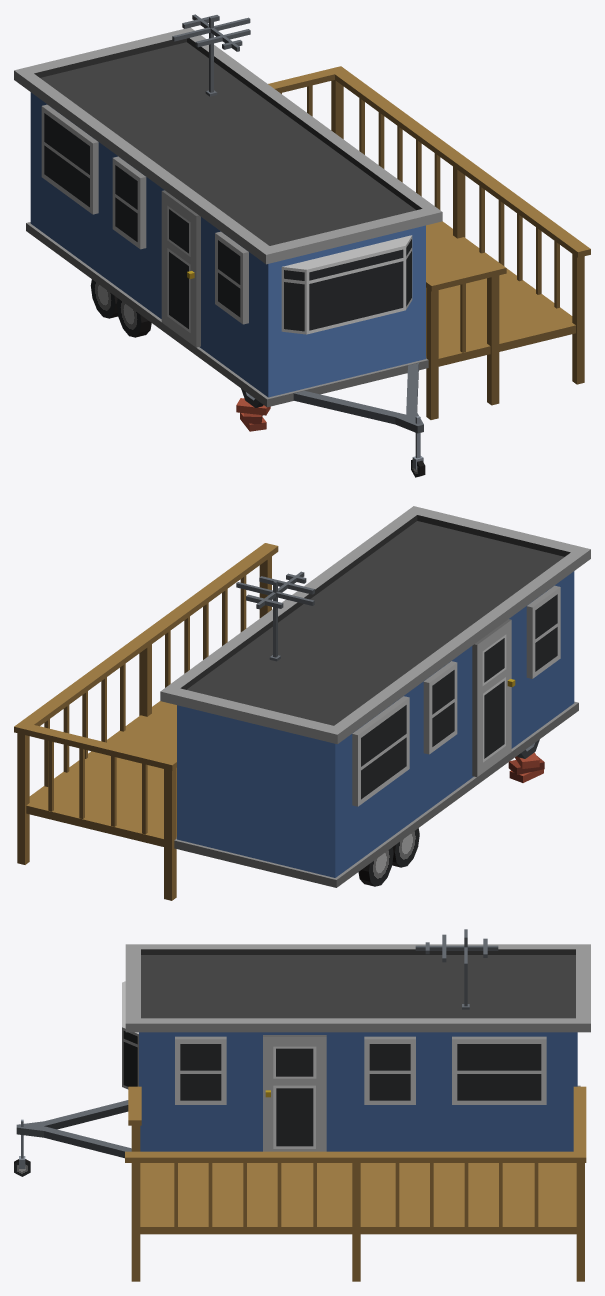
The model's file is SA_Bld_Trailer_03.gltf.
The picture shows the model from 3 angles, top to bottom: view 1: azimuth 30°, elevation 25°; view 2: azimuth 150°, elevation 25°; view 3: azimuth 270°, elevation 25°; orthographic projection. The views are drawn at different scales.
Parts seen in each view (by area): view 1: SA_Bld_Trailer_03; view 2: SA_Bld_Trailer_03; view 3: SA_Bld_Trailer_03.
Part boxes in pixels (x1,y1,x2,y2): SA_Bld_Trailer_03: (14,14,590,477); SA_Bld_Trailer_03: (14,506,590,900); SA_Bld_Trailer_03: (14,929,590,1281).
Bounding box in the file's own units: 8.86 × 7.29 × 14.77.
Materials: 1 (1 with a texture image).
